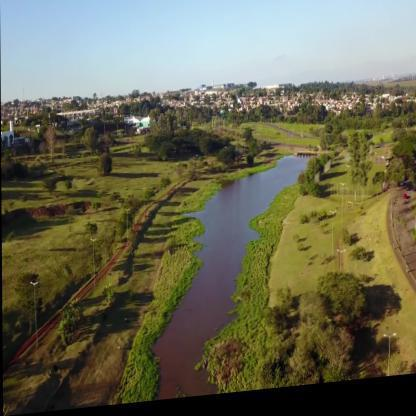agua: (191, 195, 236, 331), (158, 302, 208, 392), (259, 158, 298, 208), (234, 178, 258, 253)
